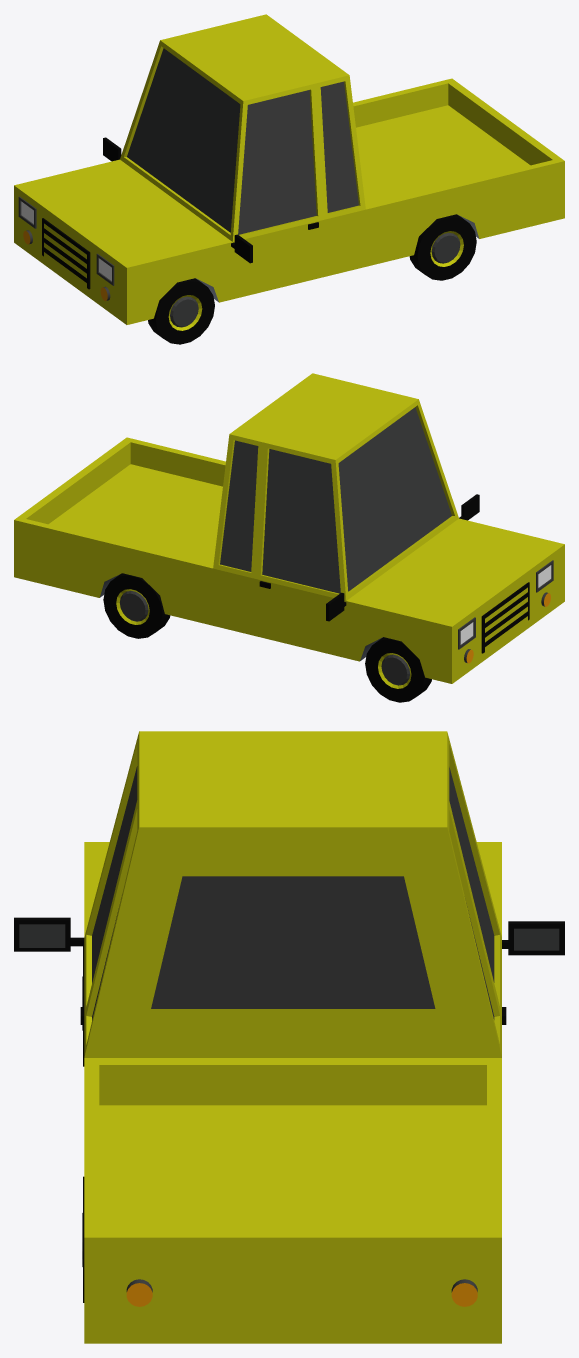
The model's file is car5E.FBX.
3 views of the same model, one above another, from view 1: azimuth 30°, elevation 25°; view 2: azimuth 150°, elevation 25°; view 3: azimuth 270°, elevation 25° (orthographic). The views are drawn at different scales.
Parts seen in each view (by area): view 1: car5E; view 2: car5E; view 3: car5E.
Boxes of the visible parts, x1,y1,x2,y2 form: car5E: (14,14,564,344); car5E: (14,373,564,702); car5E: (14,731,564,1343).
Size of the model in its own units: 11.38 by 5.22 by 6.6.
